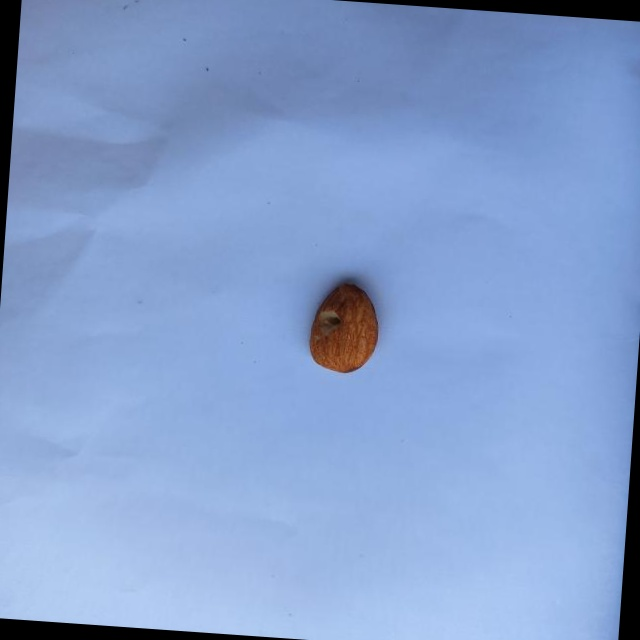grade3: (302, 276, 384, 379)
